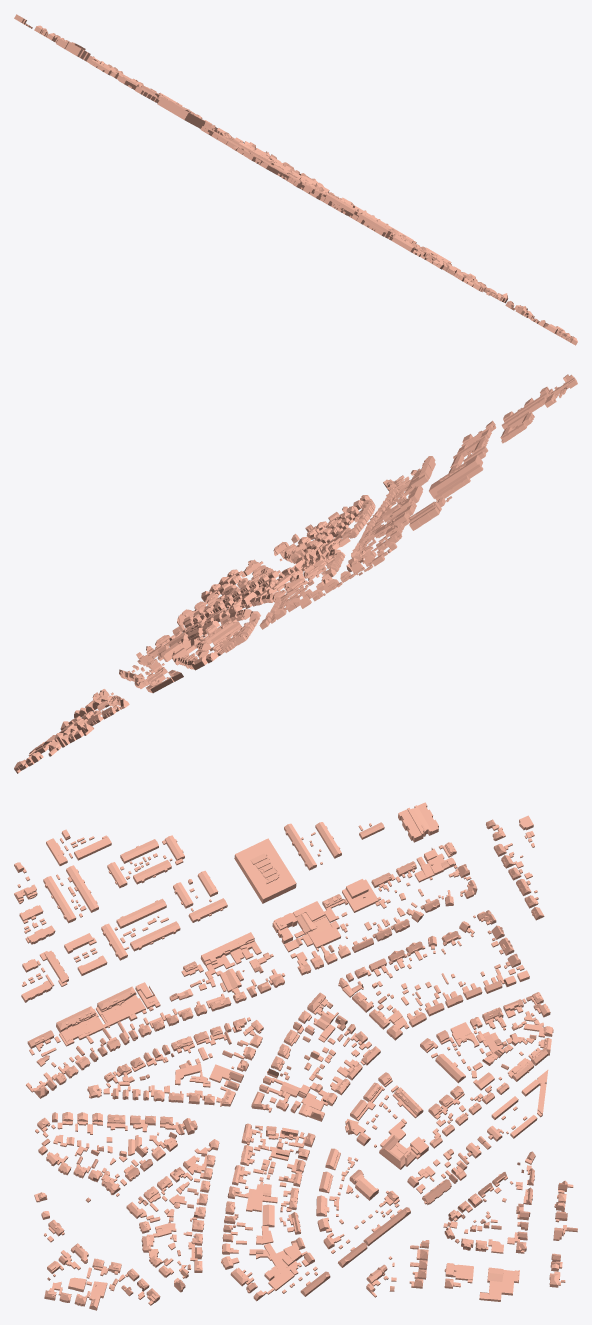
3 renders of one model, top to bottom at view 1: azimuth 30°, elevation 25°; view 2: azimuth 150°, elevation 25°; view 3: azimuth 270°, elevation 25°, orthographic. The views are drawn at different scales.
Size of the model in its own units: 537 by 399 by 643.
